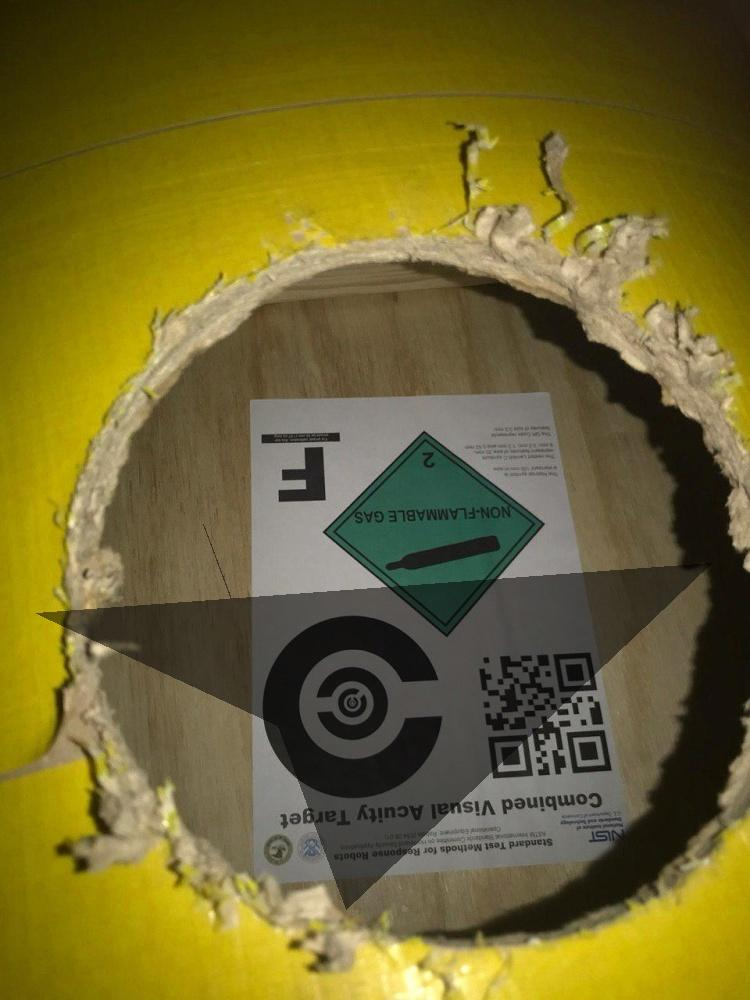non-flammable-gas: (323, 432, 543, 635)
